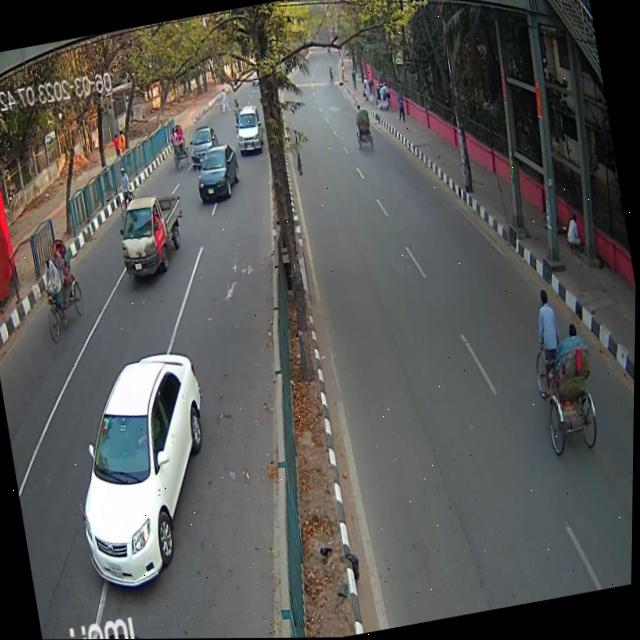rikshaw: (515, 266, 607, 459), (30, 231, 89, 340), (167, 120, 193, 171)
